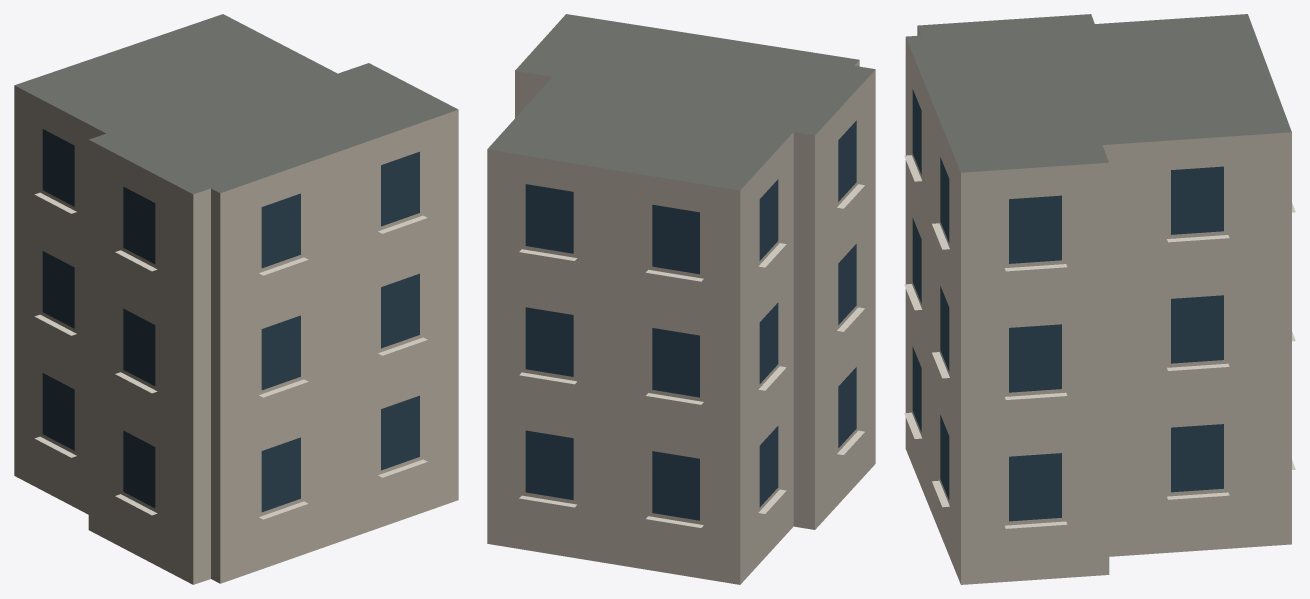
3 renders of one model, left to right at view 1: azimuth 30°, elevation 25°; view 2: azimuth 150°, elevation 25°; view 3: azimuth 270°, elevation 25°, orthographic. The views are drawn at different scales.
Visible parts, largest first — view 1: Footprint 0, Inferred window bays, Window sills; view 2: Footprint 0, Inferred window bays, Window sills; view 3: Footprint 0, Inferred window bays, Window sills.
Boxes of the visible parts, left/top/right/bottom form: Footprint 0: left=14, top=14, right=458, bottom=584; Inferred window bays: left=42, top=129, right=419, bottom=512; Window sills: left=34, top=192, right=427, bottom=519; Footprint 0: left=487, top=14, right=875, bottom=584; Inferred window bays: left=525, top=120, right=856, bottom=520; Window sills: left=519, top=184, right=864, bottom=527; Footprint 0: left=905, top=14, right=1291, bottom=584; Inferred window bays: left=912, top=89, right=1223, bottom=521; Window sills: left=904, top=155, right=1295, bottom=528.
Size of the model in its own units: 8.82 by 10.5 by 9.05.
